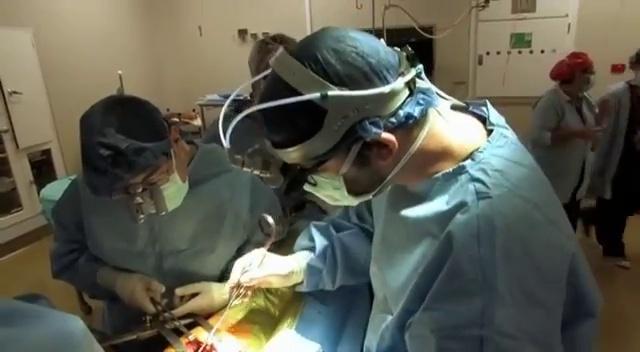doctor: (211, 25, 605, 351), (40, 91, 289, 337)
others: (526, 50, 606, 233), (588, 47, 639, 270)
